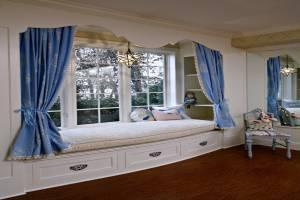window: (66, 46, 171, 119)
